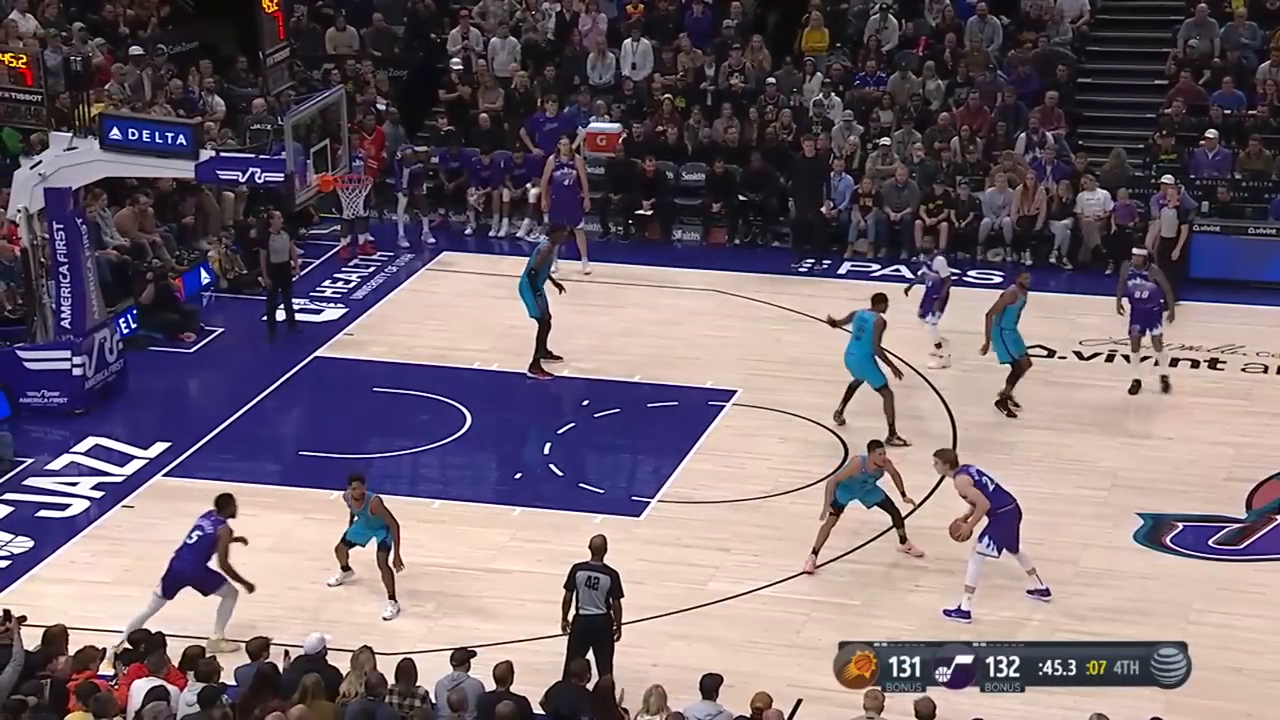ball: (946, 515, 975, 543)
net: (333, 173, 374, 219)
